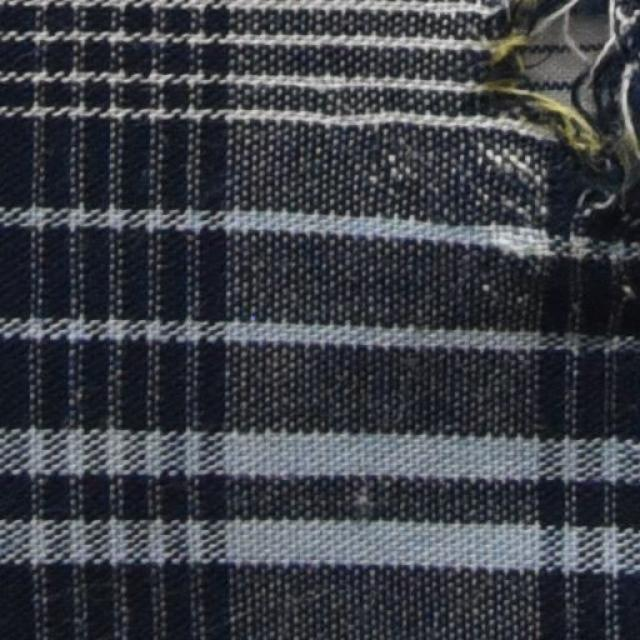Hole: (527, 13, 615, 95)
Snag: (539, 0, 639, 181)
Stain: (485, 22, 602, 147)
